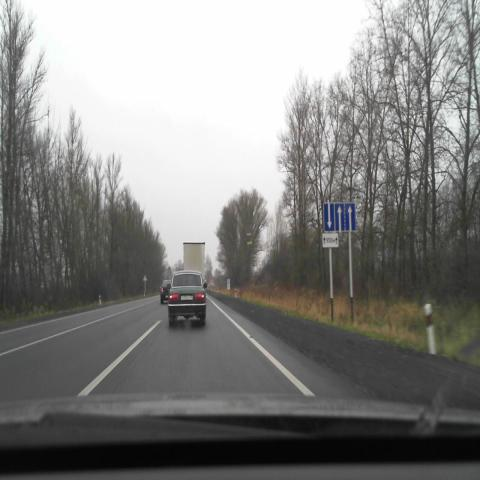5_15_7: (323, 202, 355, 231)
8_2_1: (322, 233, 338, 247)
